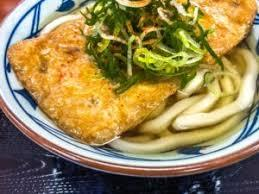kitune: (6, 1, 259, 161)
